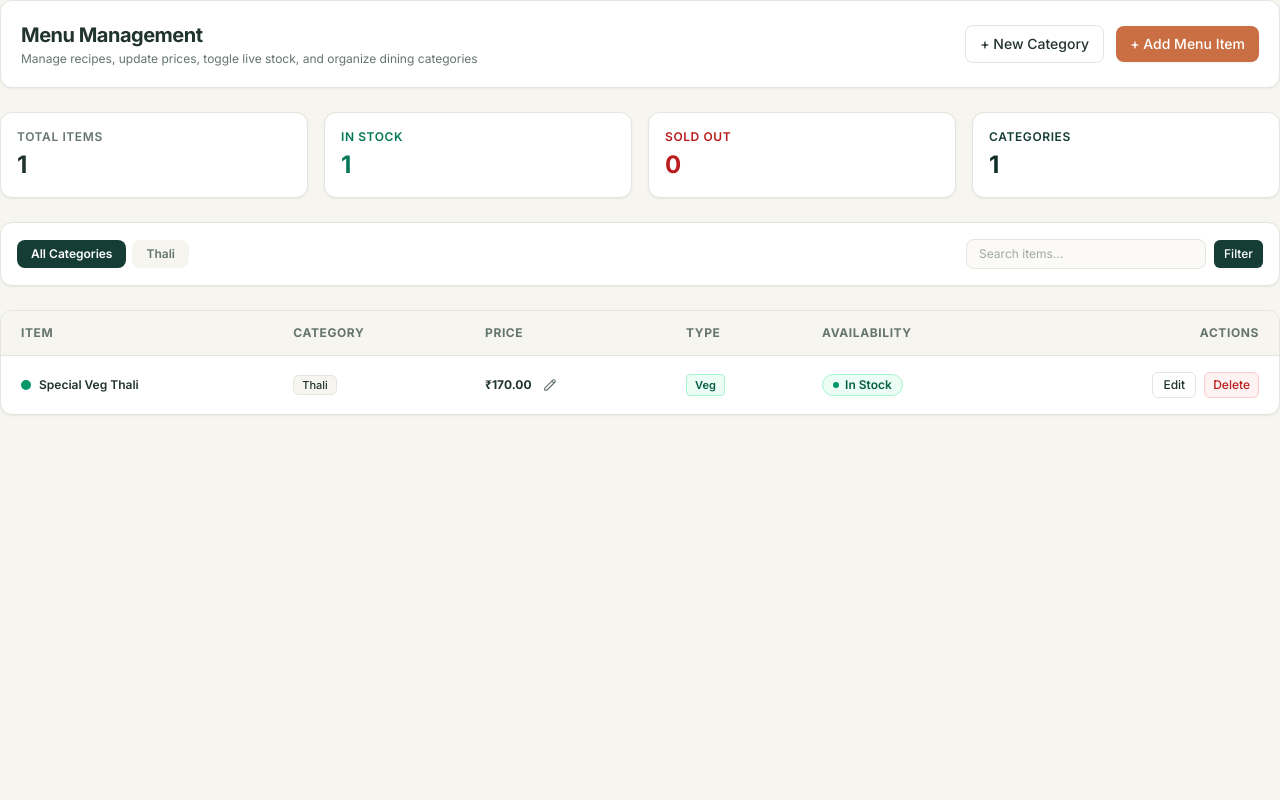
Test case: Stage 4 — Admin & Reports Frontend › renders AdminMenuPage with categories, items, and supports price changes
The width and height of the screenshot is (1280, 800).
Expected: the text "Special Veg Thali" is shown, [39, 377, 139, 393]
Expected: the text "₹170.00" is shown, [485, 377, 531, 393]
Click quick price edit icon
Click the button titled "Quick edit price" at [550, 385], box [540, 374, 562, 396]
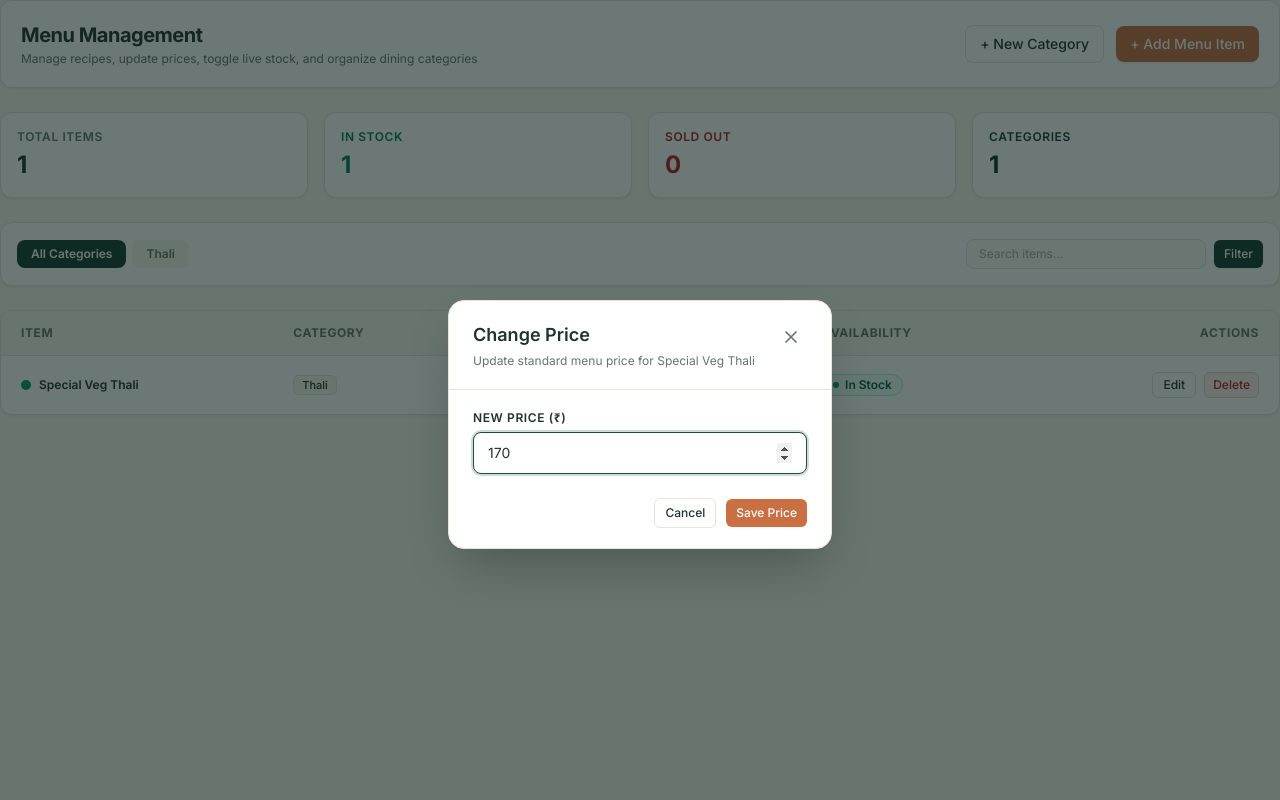
Expected: the heading "Change Price" is shown, [473, 324, 590, 344]
